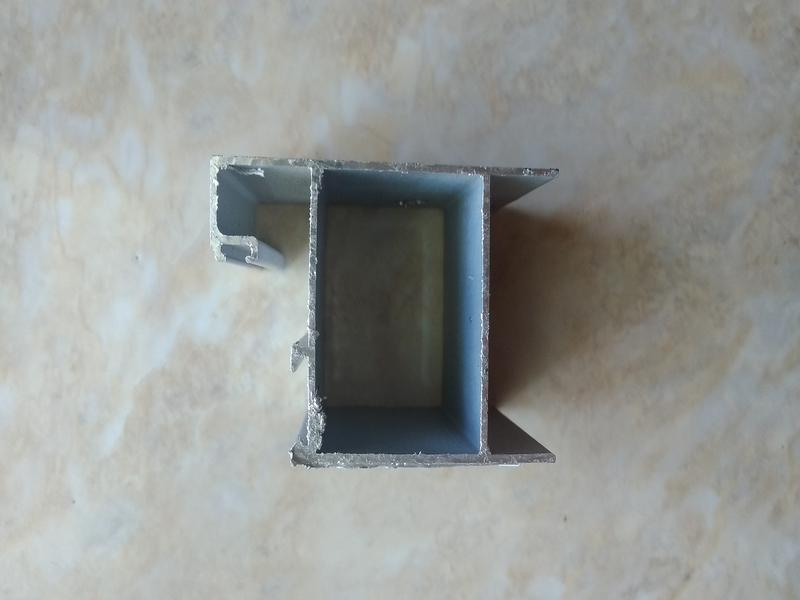Aluminium_2: (195, 121, 600, 498)
